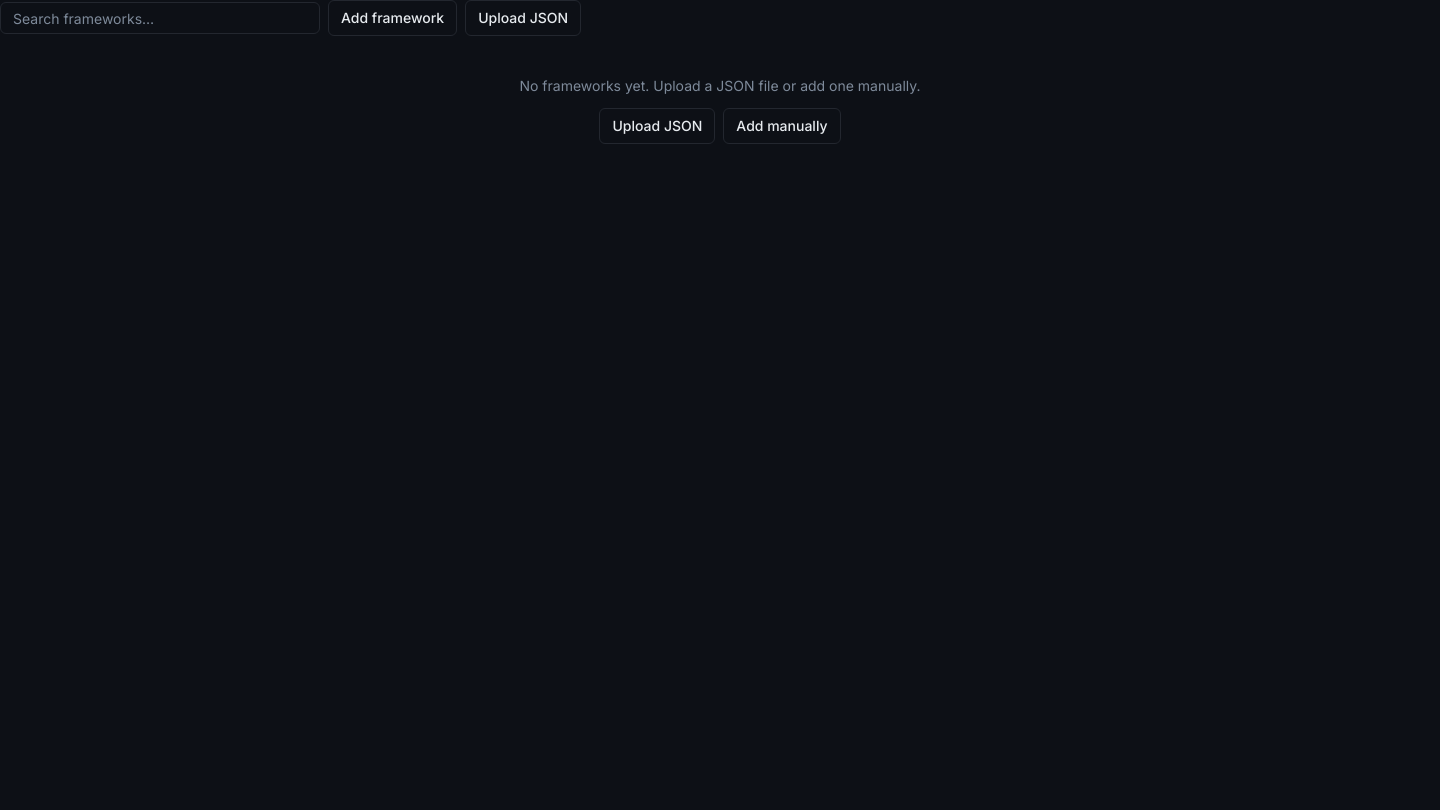
it: FrameworkLibraryTab — KIN-320 (edit, add, upload) › add manually › Save button is disabled when name is empty, enabled after typing
Expected: the text "No frameworks yet. Upload a JSON file or add one manually." is shown, [520,77,921,94]
Click the button "Add manually" at (782, 126), box [723,108,841,144]
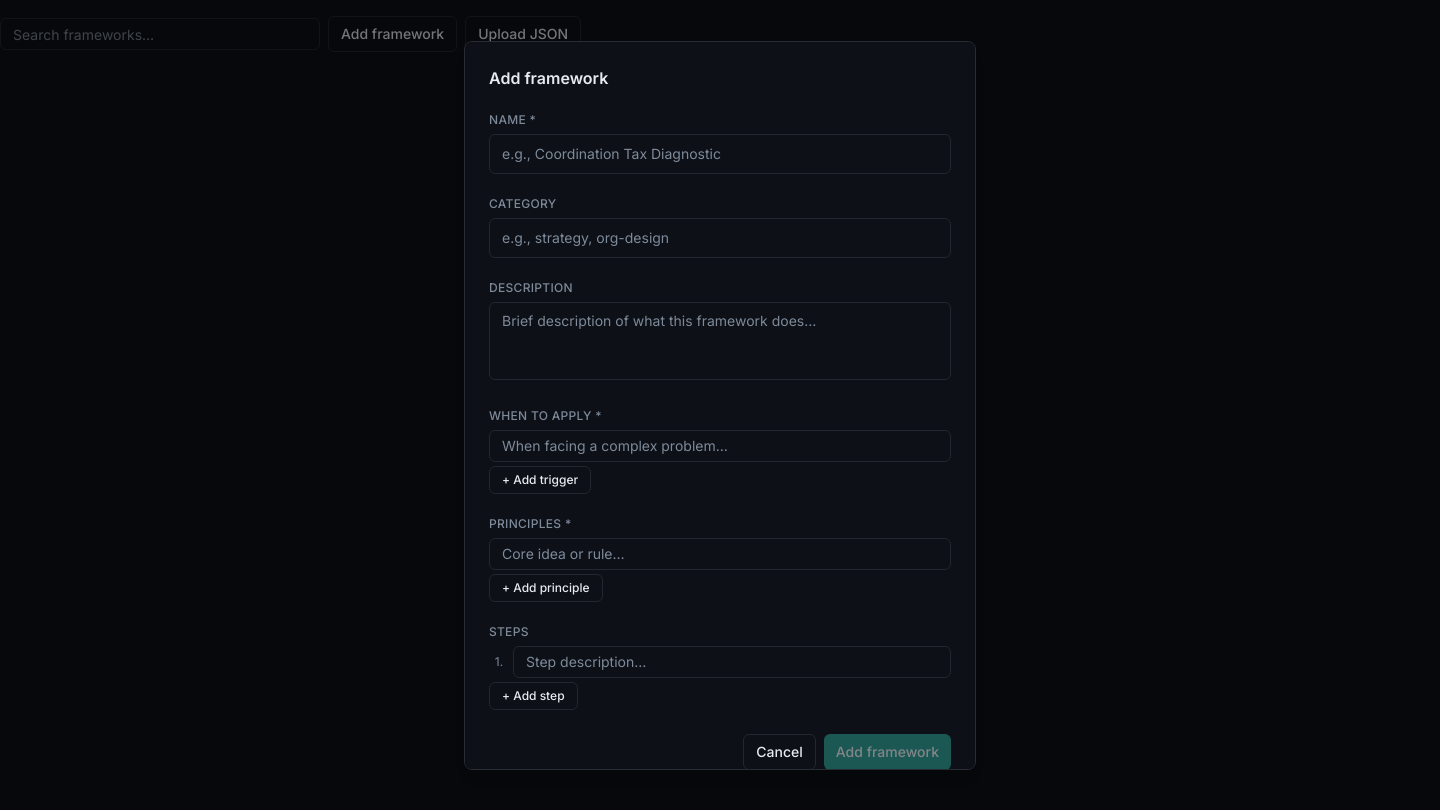
Expected: the button "Add framework" is disabled, [824,734,951,770]
# Type a name — save button becomes enabled
Type "New FW" into the field with placeholder "e.g., Coordination Tax Diagnostic" at (720, 154), box [489,134,951,174]
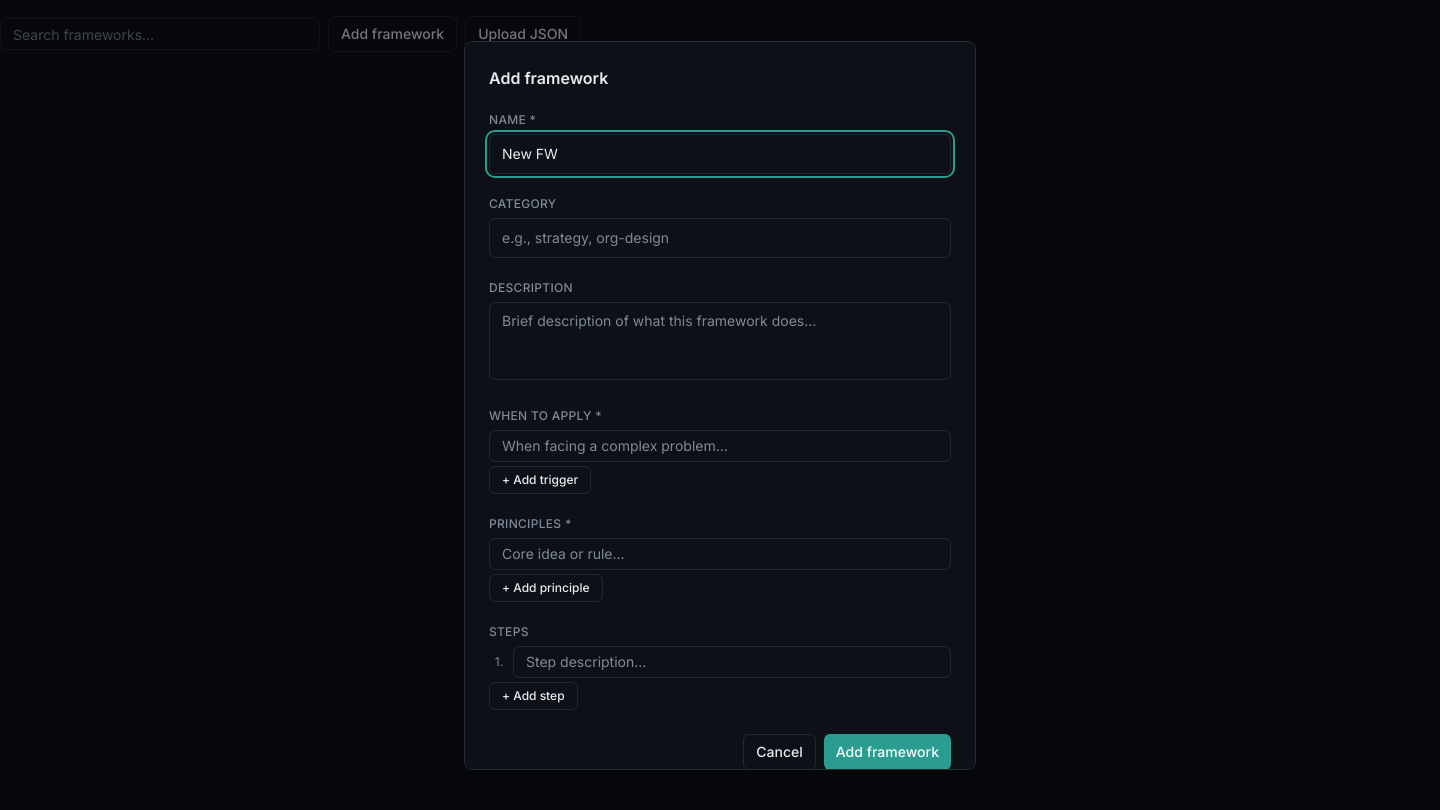
Expected: the button "Add framework" is enabled, [824,734,951,770]
